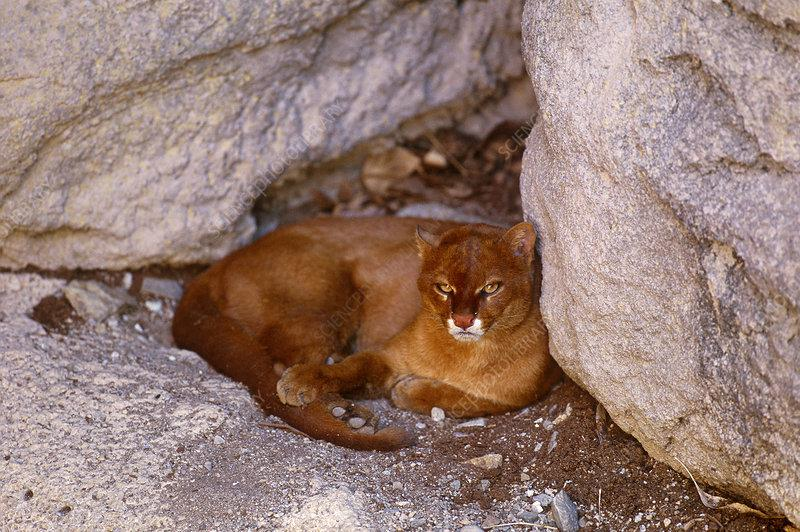Jaguarundi: (162, 208, 562, 462)
